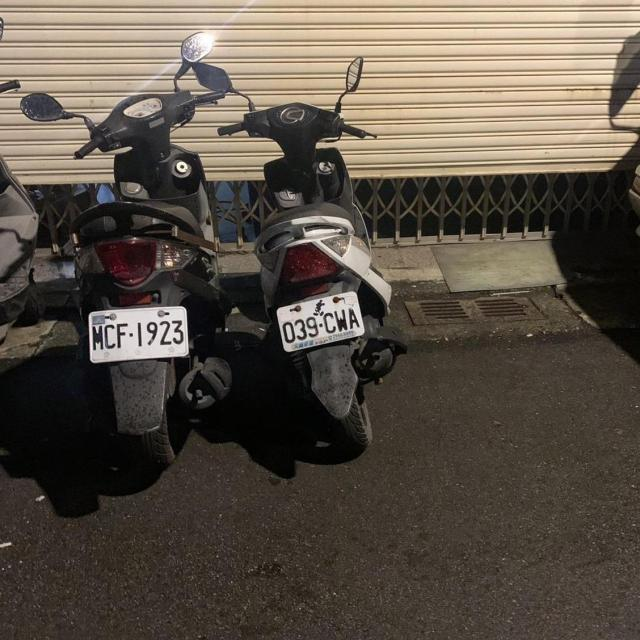W: (80, 302, 194, 366), (274, 287, 368, 354)
